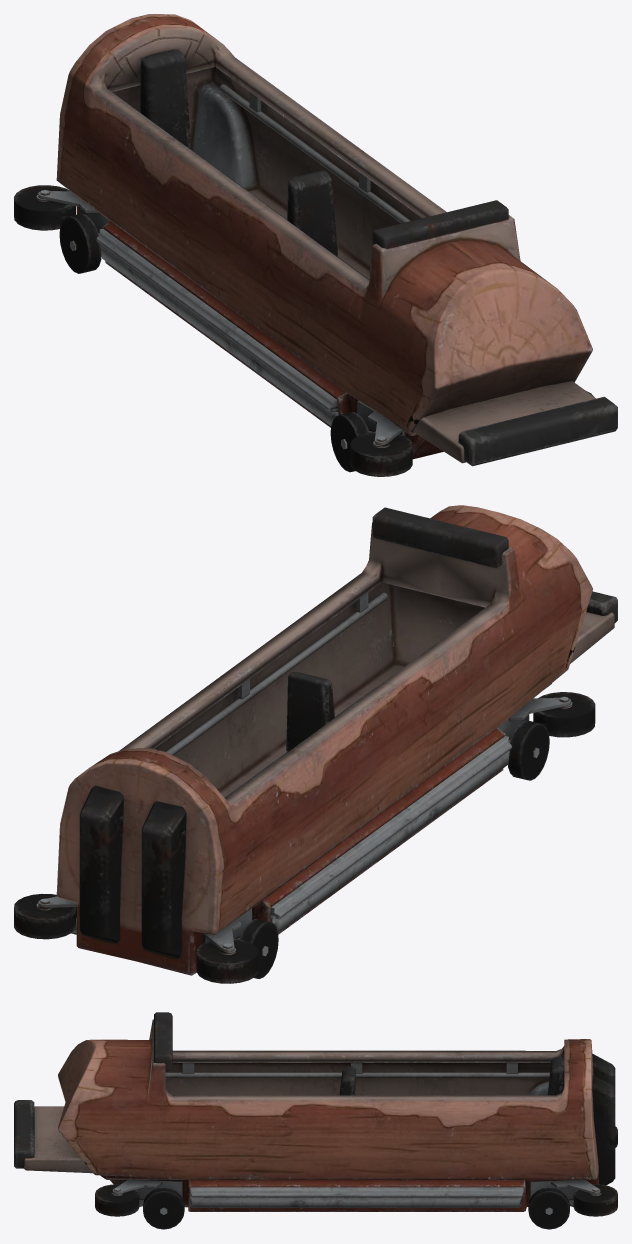
Rendered from log_ride_boat.glb.
3 views of the same model, one above another, from view 1: azimuth 30°, elevation 25°; view 2: azimuth 150°, elevation 25°; view 3: azimuth 270°, elevation 25° (orthographic). The views are drawn at different scales.
Parts seen in each view (by area): view 1: SM_Log_Ride_Cart; view 2: SM_Log_Ride_Cart; view 3: SM_Log_Ride_Cart.
Boxes of the visible parts, box(x1,y1,x2,y2) form: SM_Log_Ride_Cart: box(14, 14, 617, 476); SM_Log_Ride_Cart: box(14, 505, 617, 983); SM_Log_Ride_Cart: box(14, 1012, 617, 1229).
Size of the model in its own units: 0.7837 by 0.726 by 2.44.
1 material, 1 textured.
